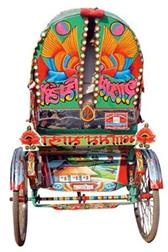Rickshaw: (6, 4, 160, 240)
